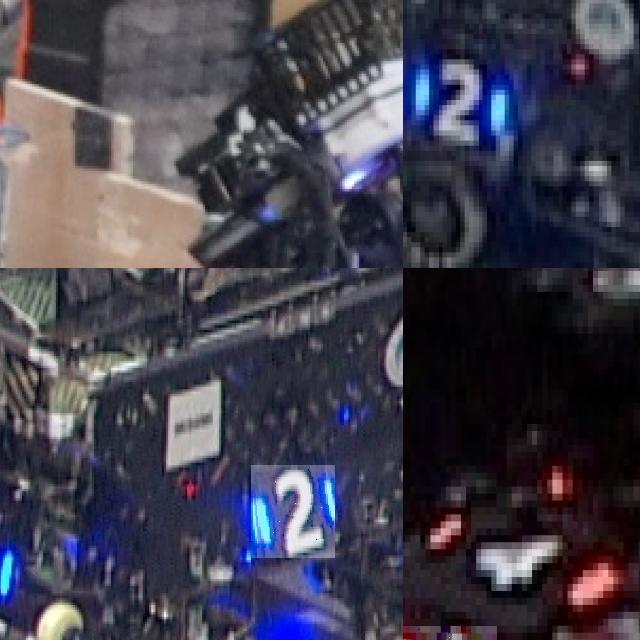B2: (403, 34, 504, 145), (251, 465, 335, 558)
